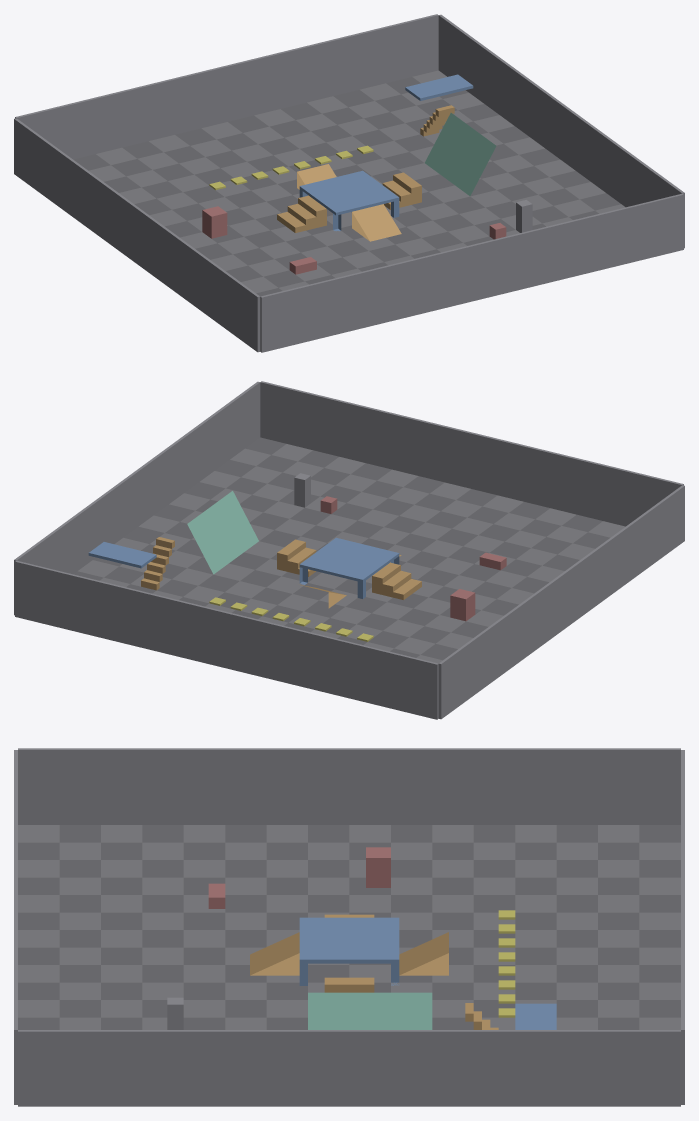
The model's file is test_arena.glb.
3 views of the same model, one above another, from view 1: azimuth 30°, elevation 25°; view 2: azimuth 150°, elevation 25°; view 3: azimuth 270°, elevation 25° (orthographic). The views are drawn at different scales.
Parts seen in each view (by area): view 1: arena; view 2: arena; view 3: arena.
Boxes of the visible parts, <box> form: arena: <box>14,14,684,352</box>; arena: <box>14,381,684,719</box>; arena: <box>14,748,684,1106</box>.
Bounding box in the file's own units: 81 × 10 × 81.
